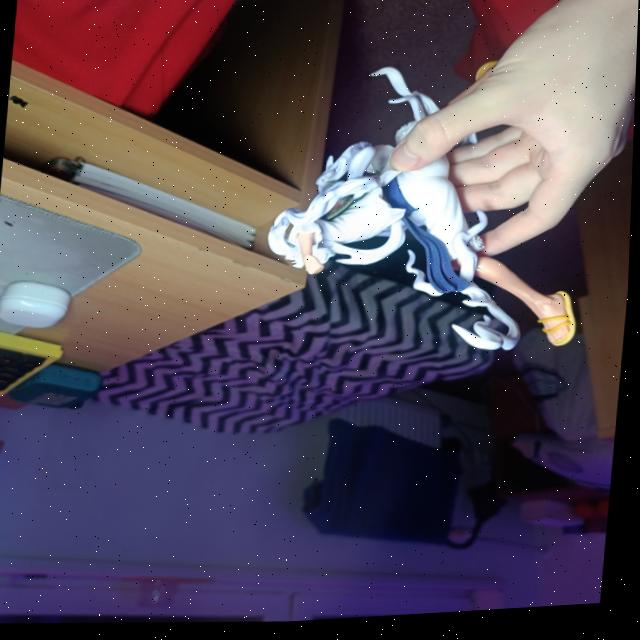luffy: (258, 123, 544, 374)
